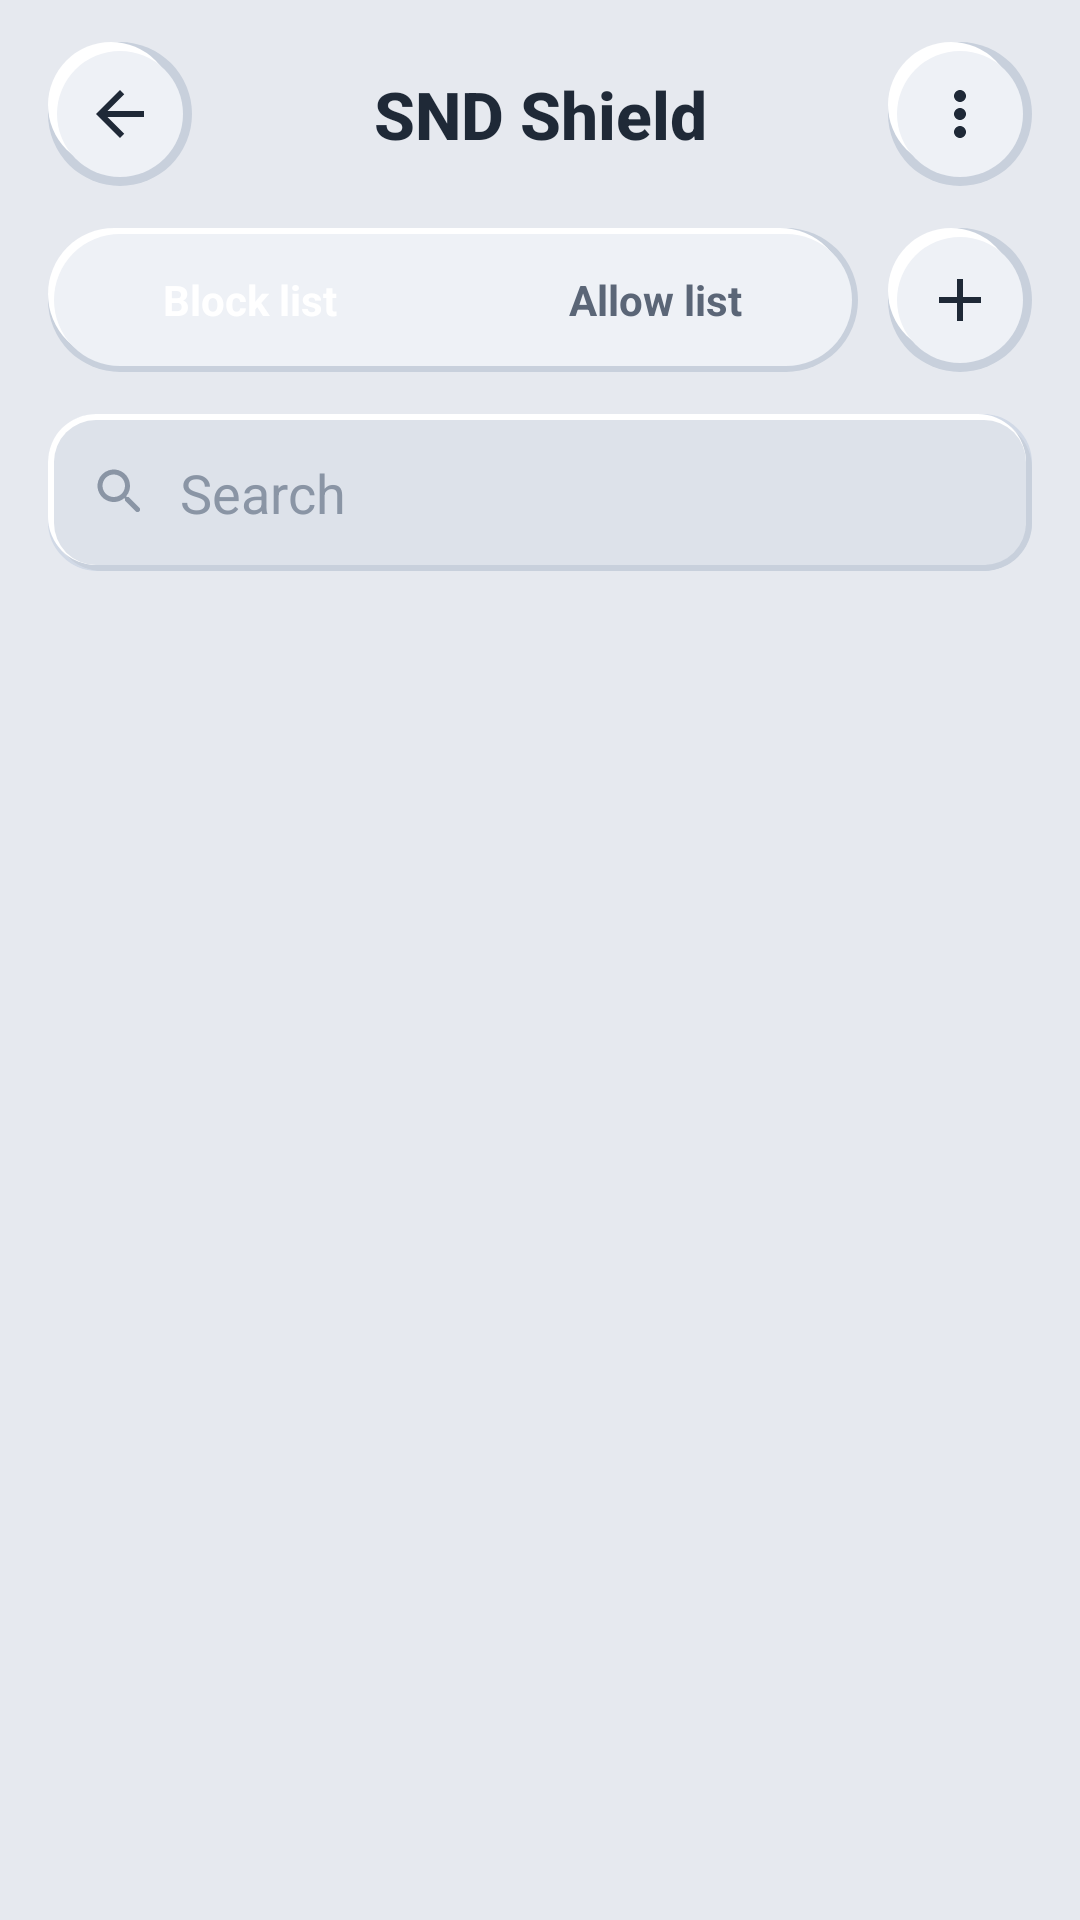

Icon click points for this 1080px x 1920px phone screenshot, format (x=x, y=y):
Add: (x=960, y=300)
Back: (x=120, y=114)
